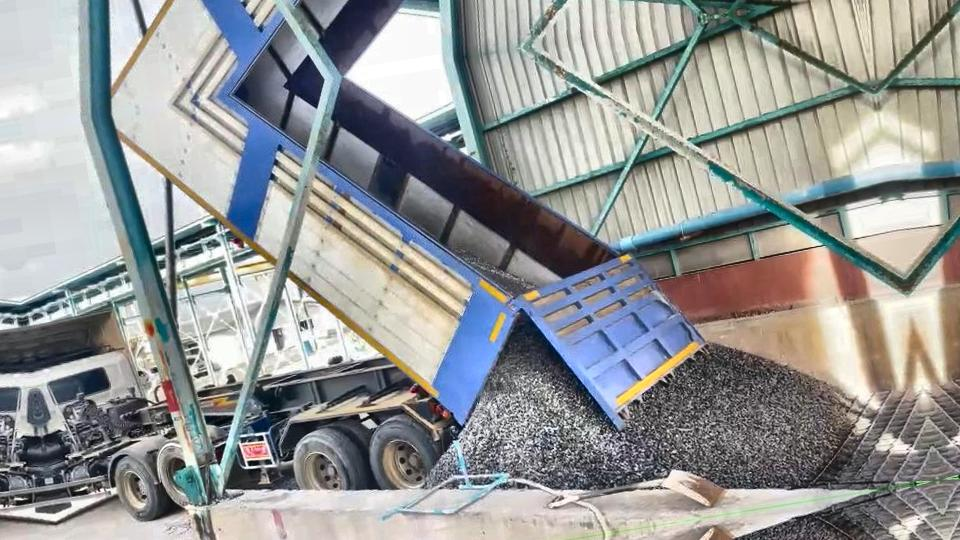gravel: (460, 318, 853, 488), (454, 249, 536, 295), (428, 448, 457, 485)
